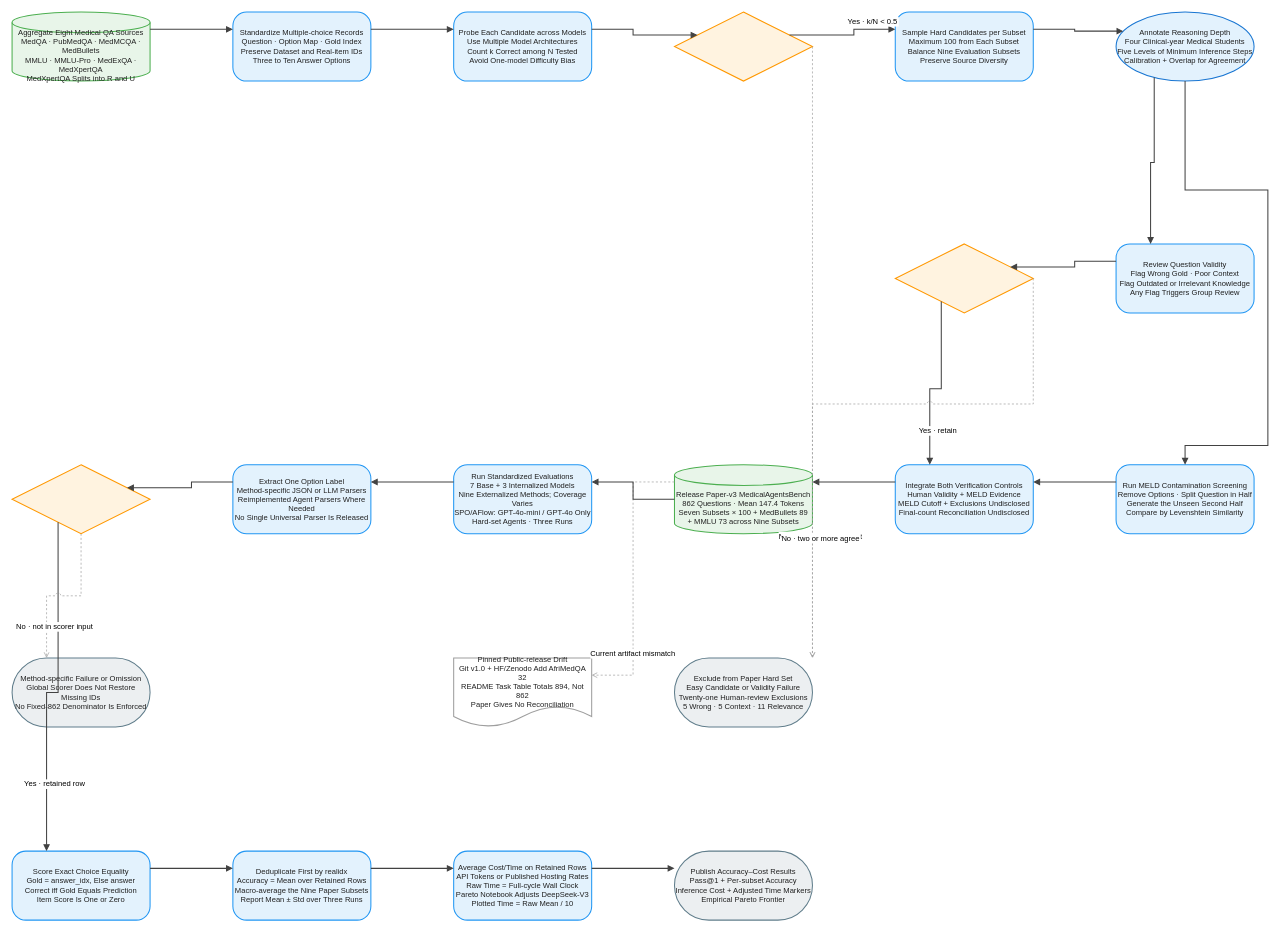
Image size: 1286x933. Some labels were removed from this diagram. The centre of each missing label's shape, as x and y in pixels:
Did the Runner Emit a Result Row with realidx and predicted_answer?: the point at 80,499
Do Fewer than Two Annotators Agree the Concern Is Valid?: the point at 963,278
Is the Correct-model Fraction k / N Strictly below 50%?: the point at 743,46
